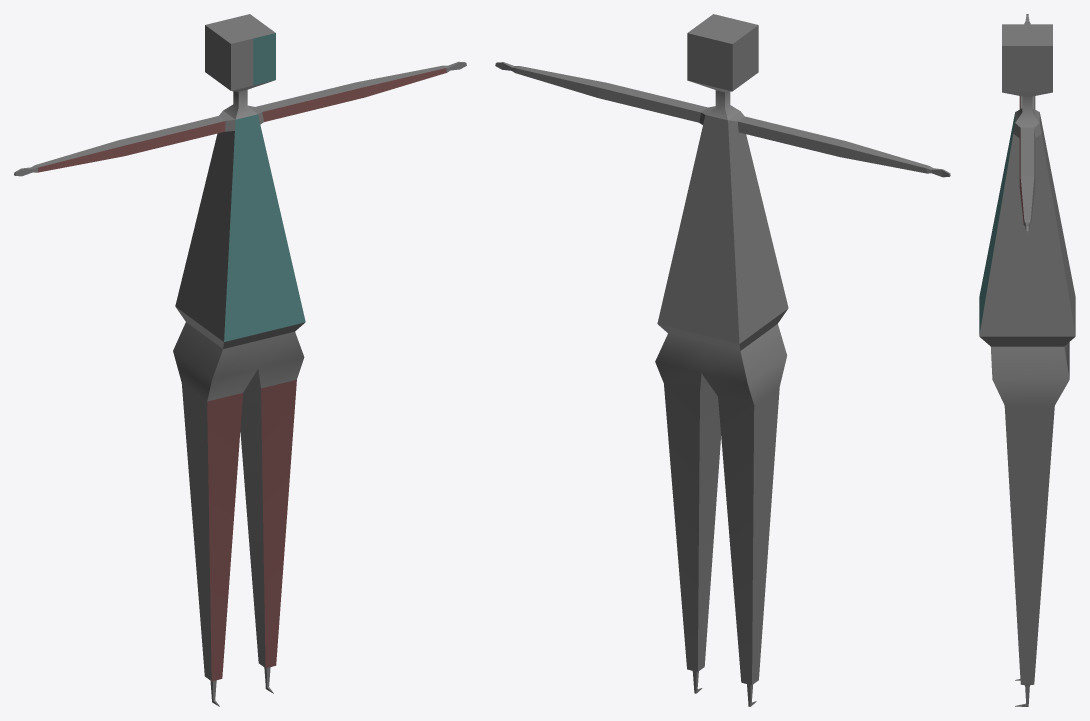
File: person-3.obj
3 renders of one model, left to right at view 1: azimuth 30°, elevation 25°; view 2: azimuth 150°, elevation 25°; view 3: azimuth 270°, elevation 25°, orthographic.
Visible parts, largest first — view 1: person_1:pCube4; view 2: person_1:pCube4; view 3: person_1:pCube4.
Part boxes in pixels (x1,y1,x2,y2): person_1:pCube4: (14,14,466,706); person_1:pCube4: (495,14,950,706); person_1:pCube4: (979,14,1075,706).
Size of the model in its own units: 10.04 by 14.16 by 1.88.
